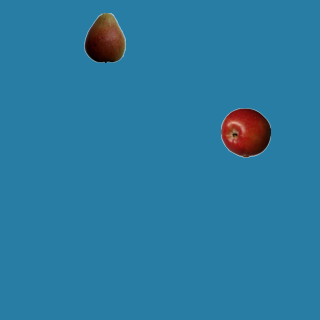Apple Braeburn: (220, 107, 270, 157)
Pear Forelle: (79, 12, 129, 62)
